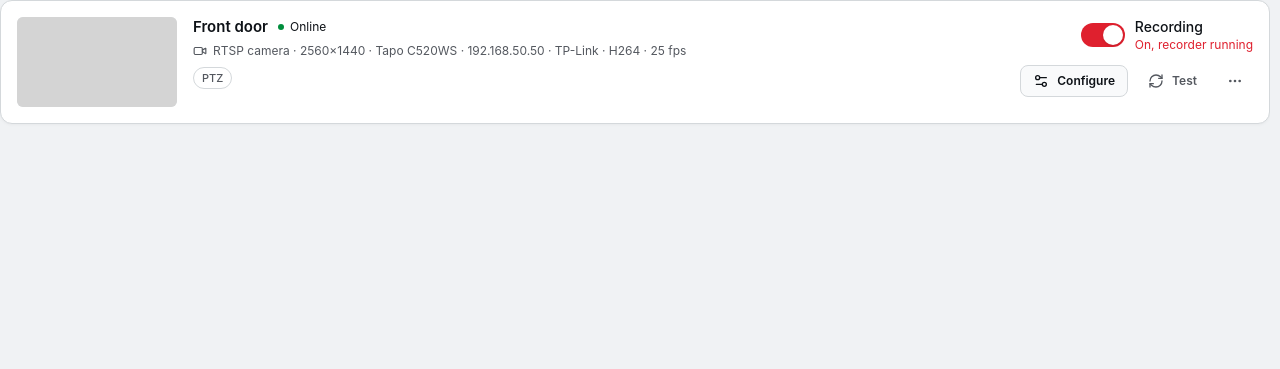
Test case: brand-specific actions › offers Tapo LAN controls for a camera whose metadata says TP-Link
The width and height of the screenshot is (1280, 369).
Click the button named "More actions for Front door": (1235, 81) [1217,63,1253,99]
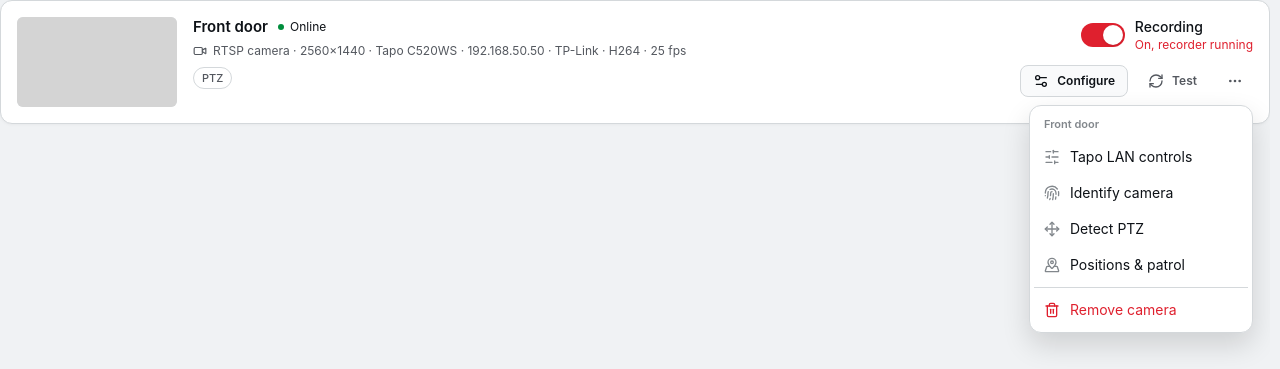
Expected: the menu item "Tapo LAN controls" is shown, [1044,148,1192,164]
